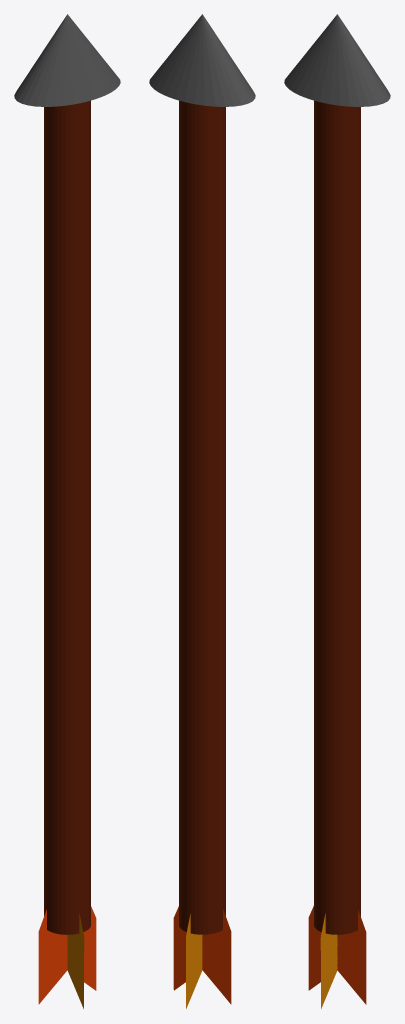
File: arrow.glb
The picture shows the model from 3 angles, left to right: view 1: azimuth 30°, elevation 25°; view 2: azimuth 150°, elevation 25°; view 3: azimuth 330°, elevation 25°; orthographic projection.
Parts seen in each view (by area): view 1: Cylinder, Cone, Plane, Plane.001; view 2: Cylinder, Cone, Plane, Plane.001; view 3: Cylinder, Cone, Plane, Plane.001.
Part boxes in pixels (x1=…): Cylinder: x1=44, y1=100, x2=90, y2=934; Cone: x1=14, y1=14, x2=120, y2=106; Plane: x1=38, y1=906, x2=96, y2=1004; Plane.001: x1=67, y1=913, x2=84, y2=1008; Cylinder: x1=179, y1=100, x2=225, y2=934; Cone: x1=149, y1=14, x2=255, y2=106; Plane: x1=173, y1=906, x2=231, y2=1004; Plane.001: x1=186, y1=913, x2=202, y2=1008; Cylinder: x1=314, y1=100, x2=360, y2=934; Cone: x1=284, y1=14, x2=390, y2=106; Plane: x1=308, y1=906, x2=366, y2=1004; Plane.001: x1=320, y1=913, x2=337, y2=1008.
Size of the model in its own units: 0.2448 by 2.29 by 0.15.
